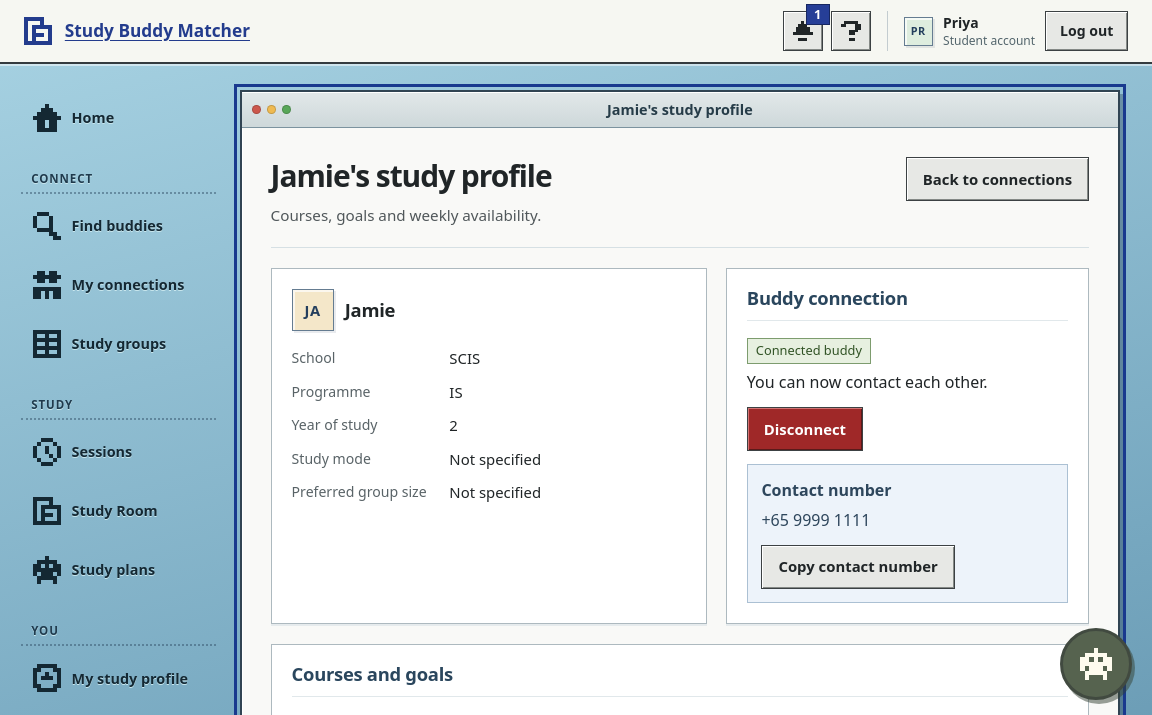
Scenario: auth and role boundaries › removes all private rendered state and session storage on logout
This screenshot has width=1152, height=715.
expect the text "+65 9999 1111" is shown: met, box [761,509,870,531]
What coordinates should you click on to do the following:
click the button "Log out"
I would click on:
 (1087, 31)
Its box is [1046,11,1128,51].
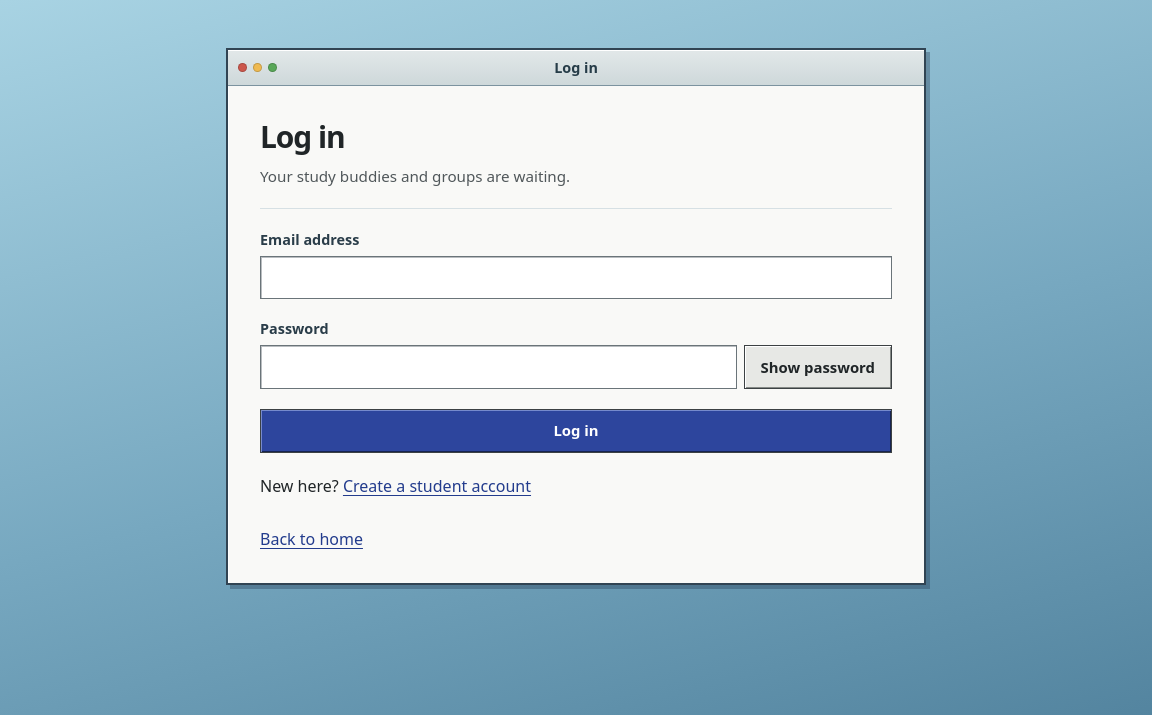
expect the heading "Log in" is shown: met, box [260,116,345,157]
expect the text "+65 9999 1111" is gone: met
